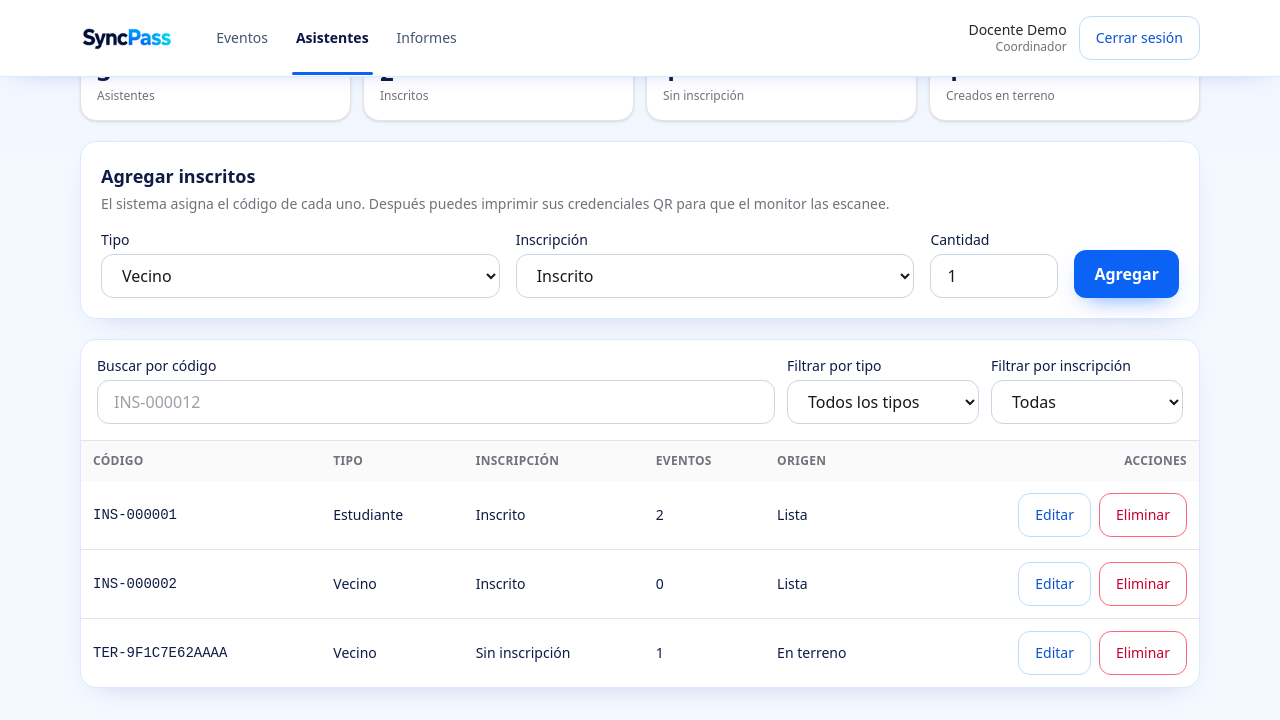
Scenario: pantalla de asistentes › edita el tipo y la inscripción de un asistente
(page scrolled)
Expected: the table named "Lista de asistentes" is shown, [81,441,1199,687]
Click the button with aria-label "Editar INS-000002". click: (1055, 584)
box: [1018,562,1091,606]
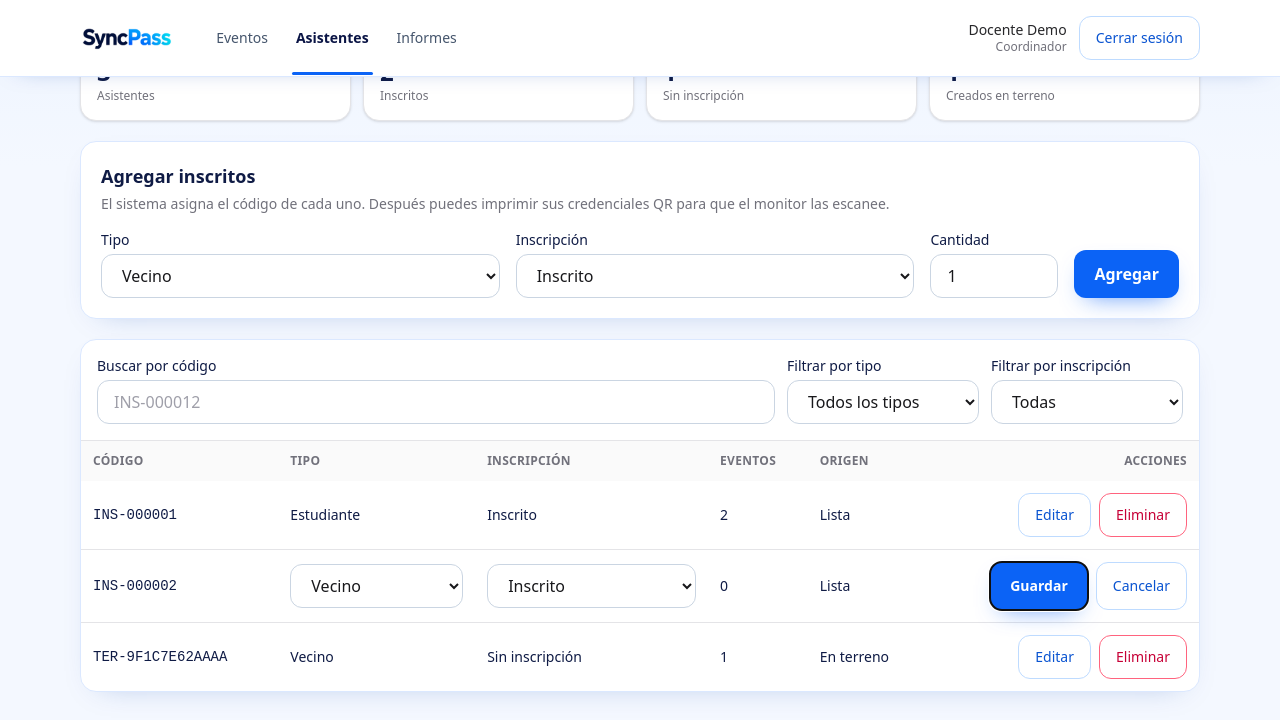
Select "Docente" in the dropdown named "Tipo de INS-000002". click: (377, 586)
box: [290,564,463,608]
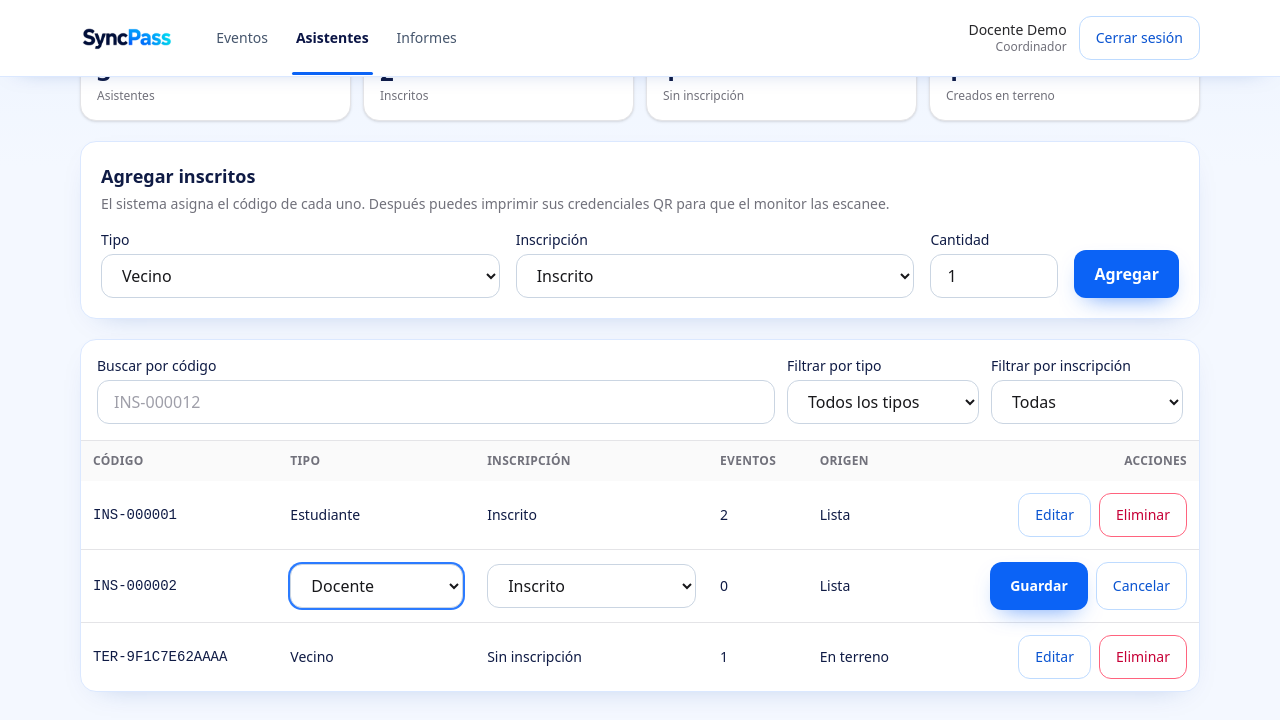
Select "Sin inscripción" in the dropdown named "Inscripción de INS-000002". click: (592, 586)
box: [487,564,696,608]
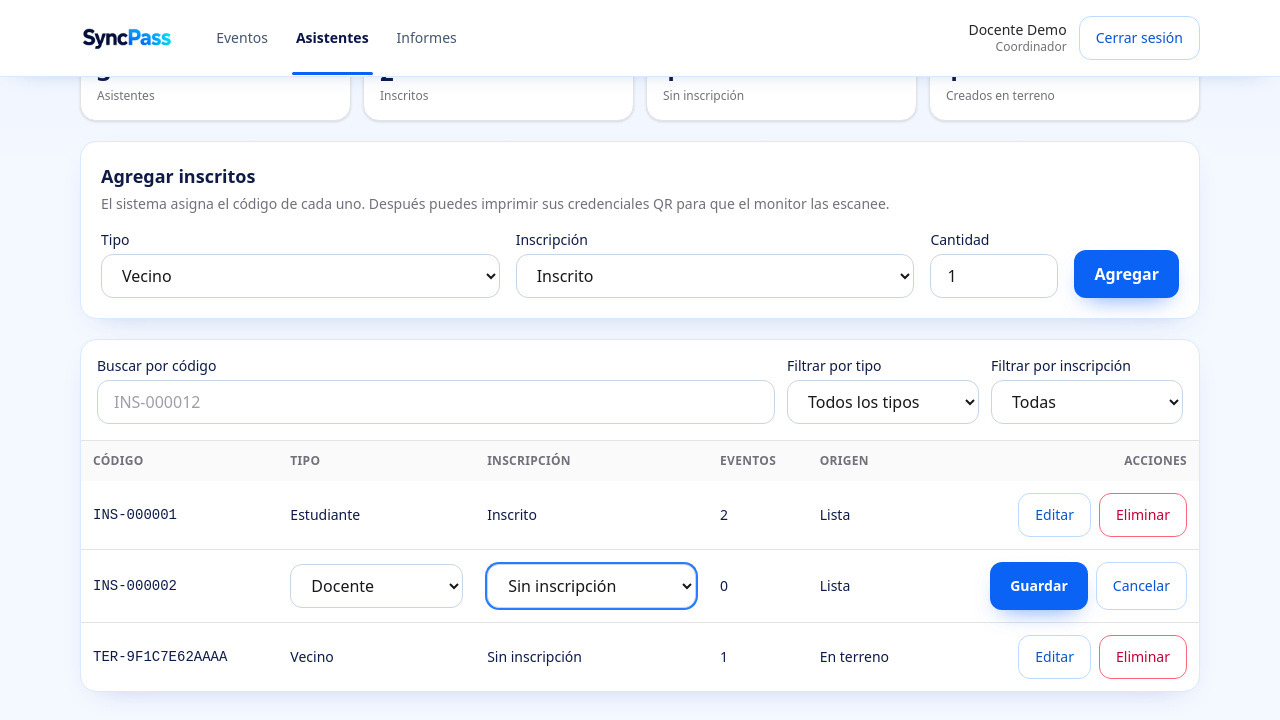
Click the button "Guardar". click: (1039, 586)
box: [990,562,1088,610]
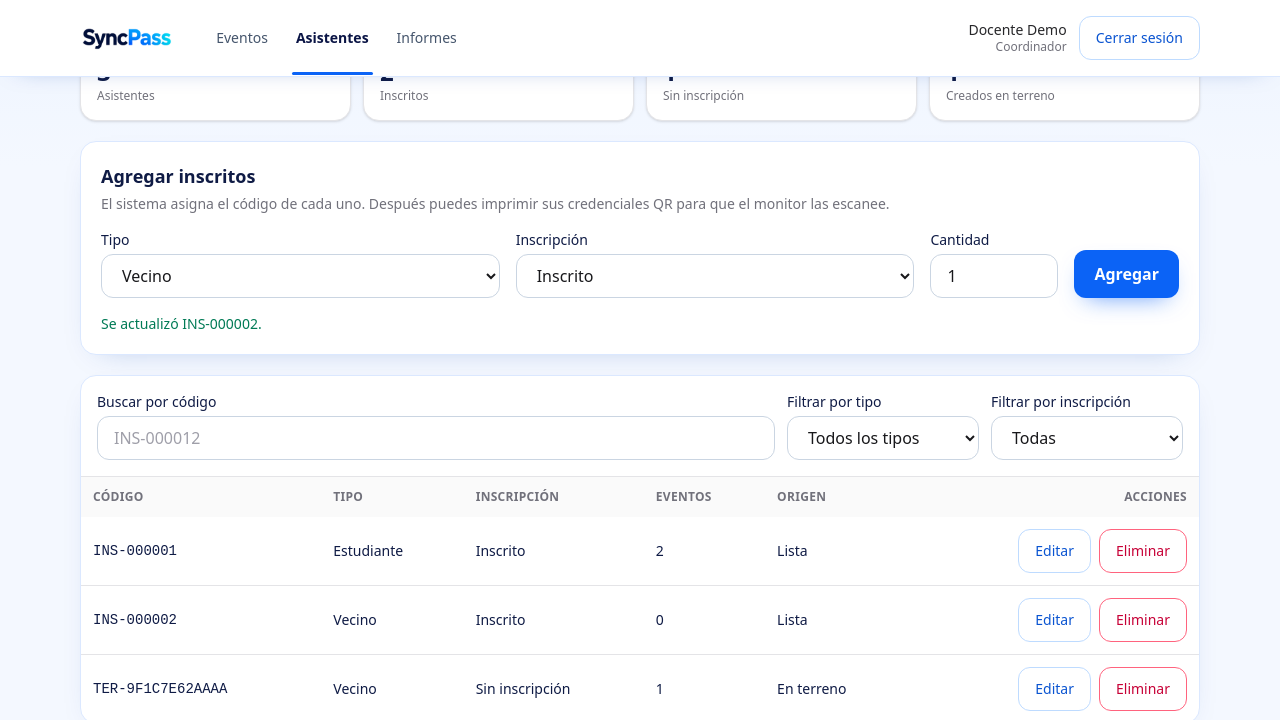
Now the message reads "Se actualizó INS-000002.", box [101,314,262,333]
